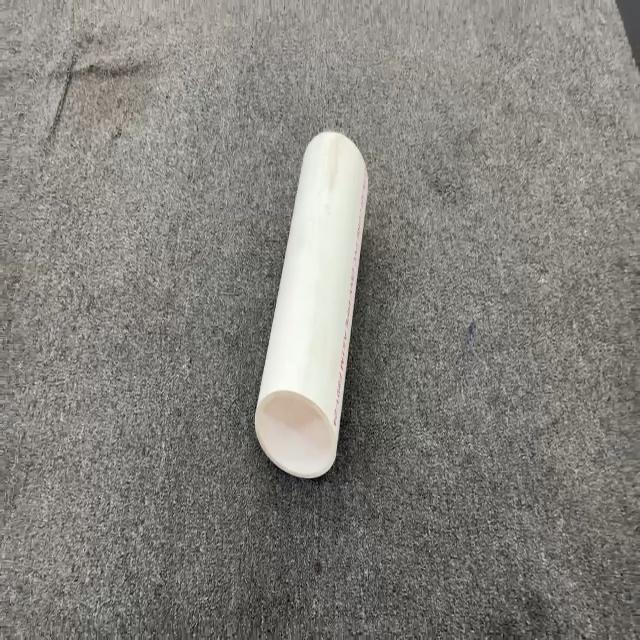coral: (253, 128, 369, 479)
